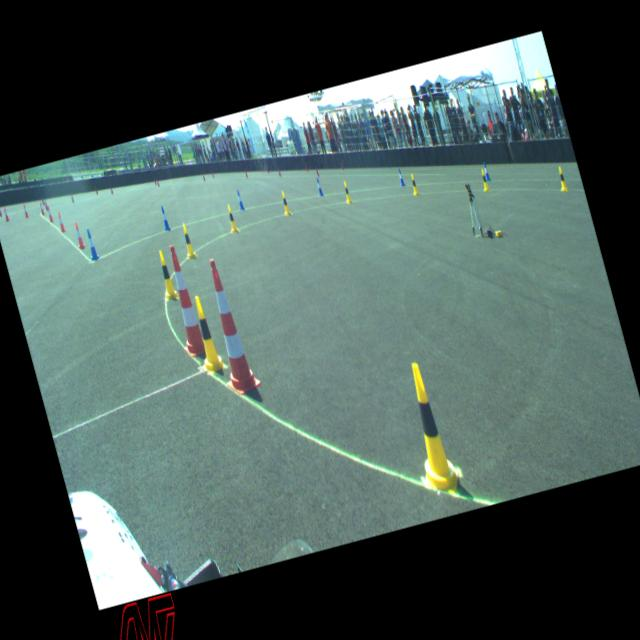blue_cone: (85, 229, 98, 260), (158, 205, 170, 231), (481, 160, 491, 182), (234, 188, 244, 210), (314, 176, 324, 196), (396, 168, 405, 188)
large_orange_cone: (194, 253, 261, 396), (158, 242, 212, 360)
orange_cone: (72, 220, 85, 248), (56, 210, 66, 232), (44, 205, 54, 222), (2, 205, 9, 221), (38, 200, 45, 216), (22, 202, 28, 218)
unknown_cone: (200, 170, 206, 182), (276, 166, 282, 177), (314, 164, 319, 177), (339, 160, 344, 172), (43, 198, 48, 210), (69, 191, 74, 202), (109, 184, 113, 194), (244, 168, 248, 178), (304, 162, 308, 172), (0, 204, 3, 217), (210, 169, 214, 178), (265, 164, 269, 173), (40, 196, 44, 205), (94, 186, 98, 194), (152, 176, 156, 184), (156, 178, 159, 186)
yellow_cone: (396, 358, 463, 499), (186, 292, 227, 373), (154, 248, 179, 300), (179, 221, 197, 259), (224, 202, 238, 234), (555, 166, 568, 192), (278, 190, 290, 216), (340, 180, 352, 204), (408, 172, 419, 196), (478, 168, 489, 192)
